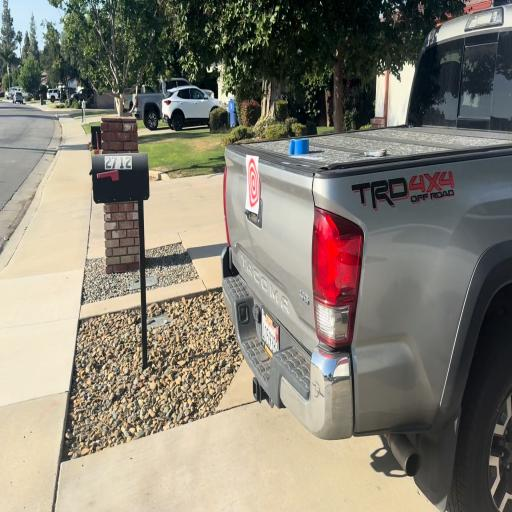bullseye: (246, 155, 260, 215)
